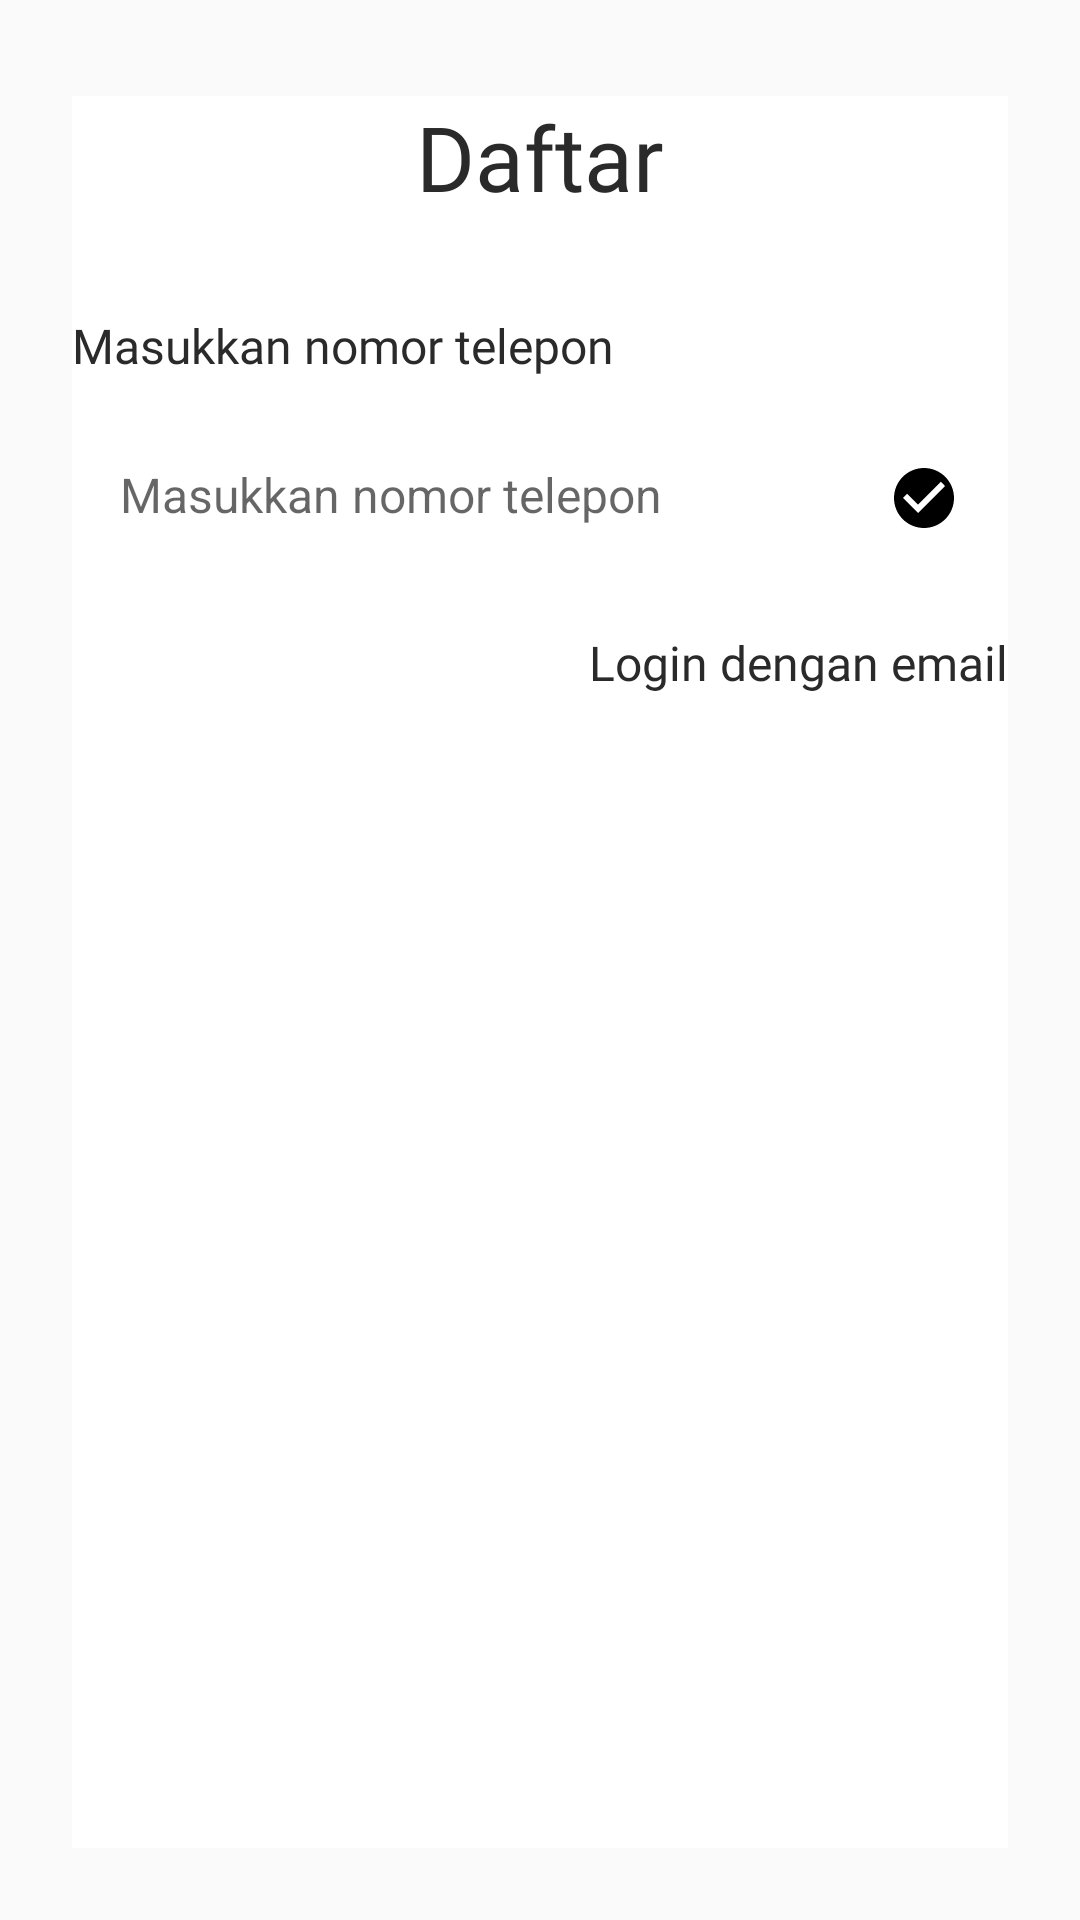

Icon click points for this 1080*1920 phone screenshot, format [x,y]:
check circle: [924,498]
